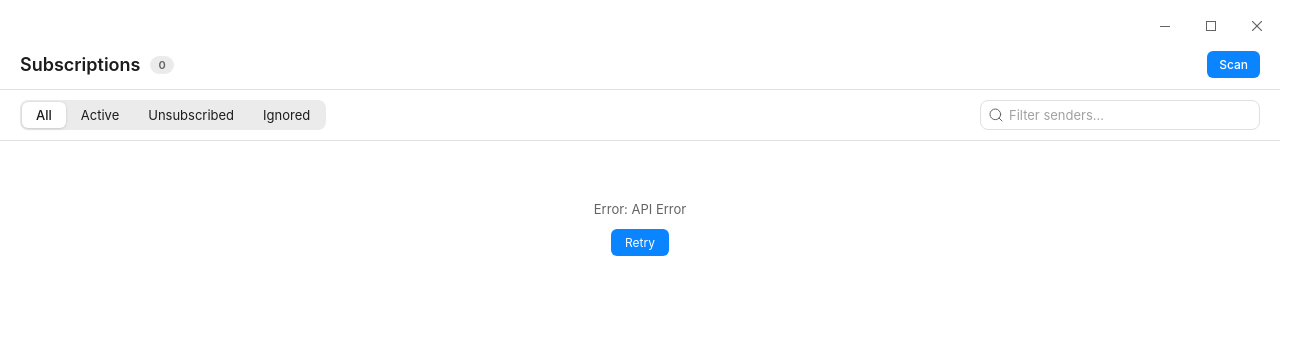
Test: Subscriptions.svelte › handles error state and shows retry button
Check: the text "Error: API Error" is shown, box x1=594 y1=201 x2=686 y2=217
What coordinates should you click on to do the following:
click the button "Retry"
I would click on:
 (640, 242)
Its box is x1=611 y1=229 x2=669 y2=256.
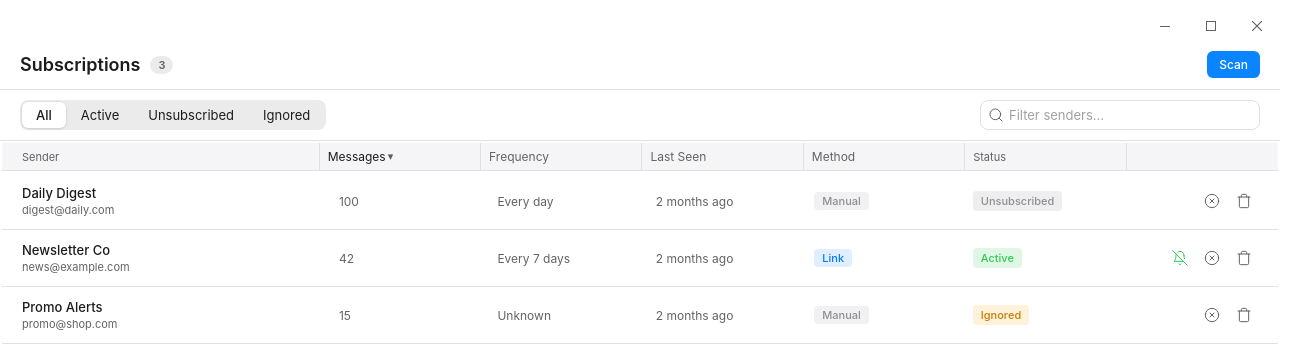
Check: the text "Newsletter Co" is shown, box x1=22 y1=242 x2=110 y2=258
